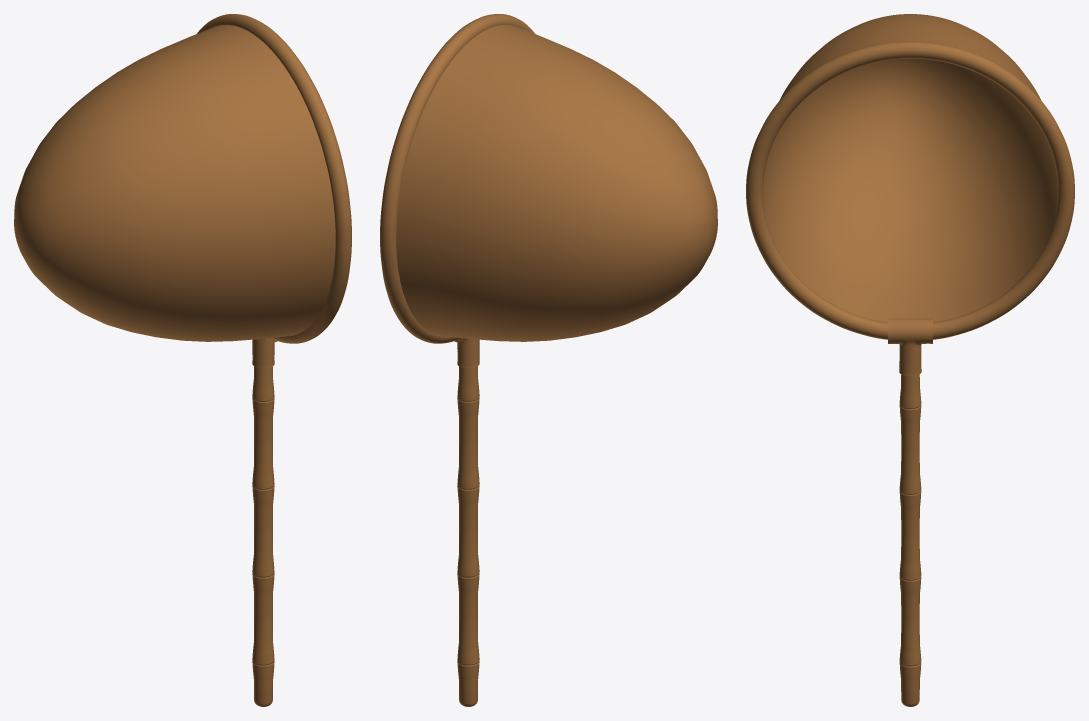
File: net.fbx
The picture shows the model from 3 angles, left to right: view 1: azimuth 30°, elevation 25°; view 2: azimuth 150°, elevation 25°; view 3: azimuth 270°, elevation 25°; orthographic projection. The views are drawn at different scales.
Parts seen in each view (by area): view 1: Cylinder.002, Cylinder, Retopo_Circle.001, Retopo_Cylinder.008; view 2: Cylinder.002, Cylinder, Retopo_Circle.001, Retopo_Cylinder.008; view 3: Cylinder.002, Retopo_Circle.001, Cylinder, Retopo_Cylinder.008.
Boxes of the visible parts, x1,y1,x2,y2 form: Cylinder.002: (14, 25, 335, 341); Cylinder: (252, 366, 274, 706); Retopo_Circle.001: (197, 14, 351, 343); Retopo_Cylinder.008: (252, 338, 277, 368); Cylinder.002: (396, 25, 717, 341); Cylinder: (457, 366, 479, 706); Retopo_Circle.001: (380, 14, 534, 343); Retopo_Cylinder.008: (454, 338, 479, 368); Cylinder.002: (763, 14, 1057, 322); Retopo_Circle.001: (746, 41, 1074, 339); Cylinder: (899, 374, 921, 706); Retopo_Cylinder.008: (888, 318, 932, 376).
Size of the model in its own units: 1413 by 3647 by 1641.
